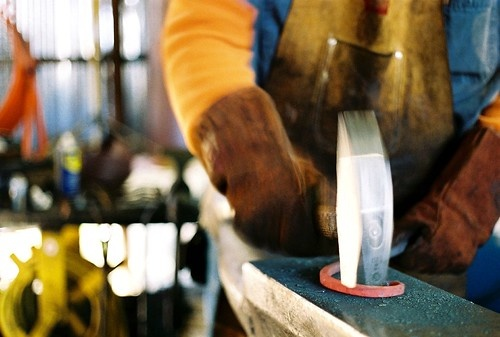hammer: (206, 110, 405, 292)
